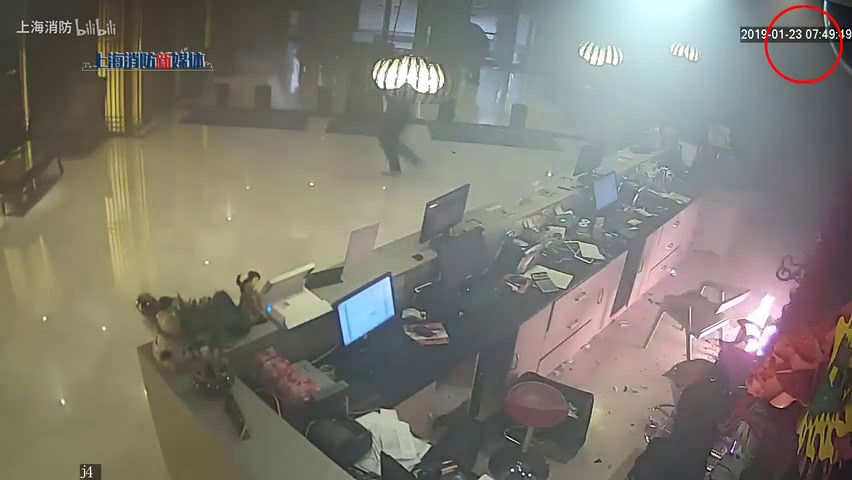fire: (740, 292, 781, 356)
